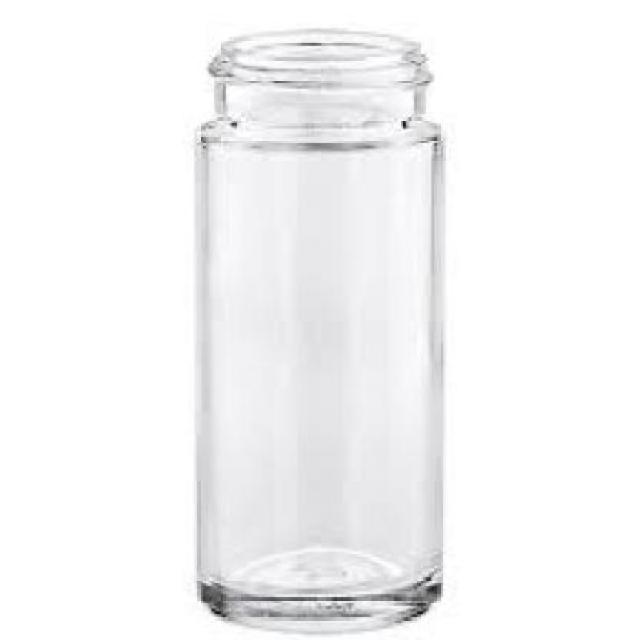GLASS: (200, 25, 446, 626)
